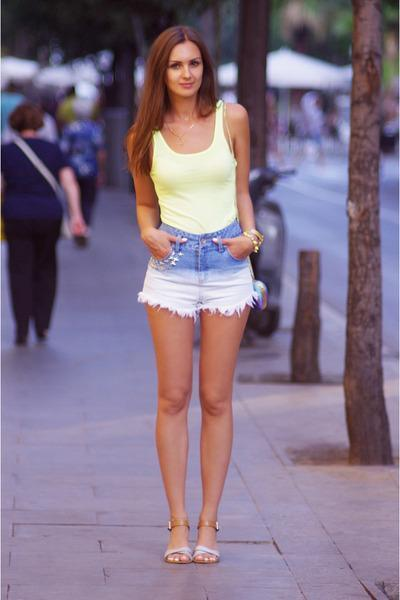shirt: (150, 99, 245, 234)
shoe: (165, 526, 218, 560)
shorts: (138, 219, 257, 320)
